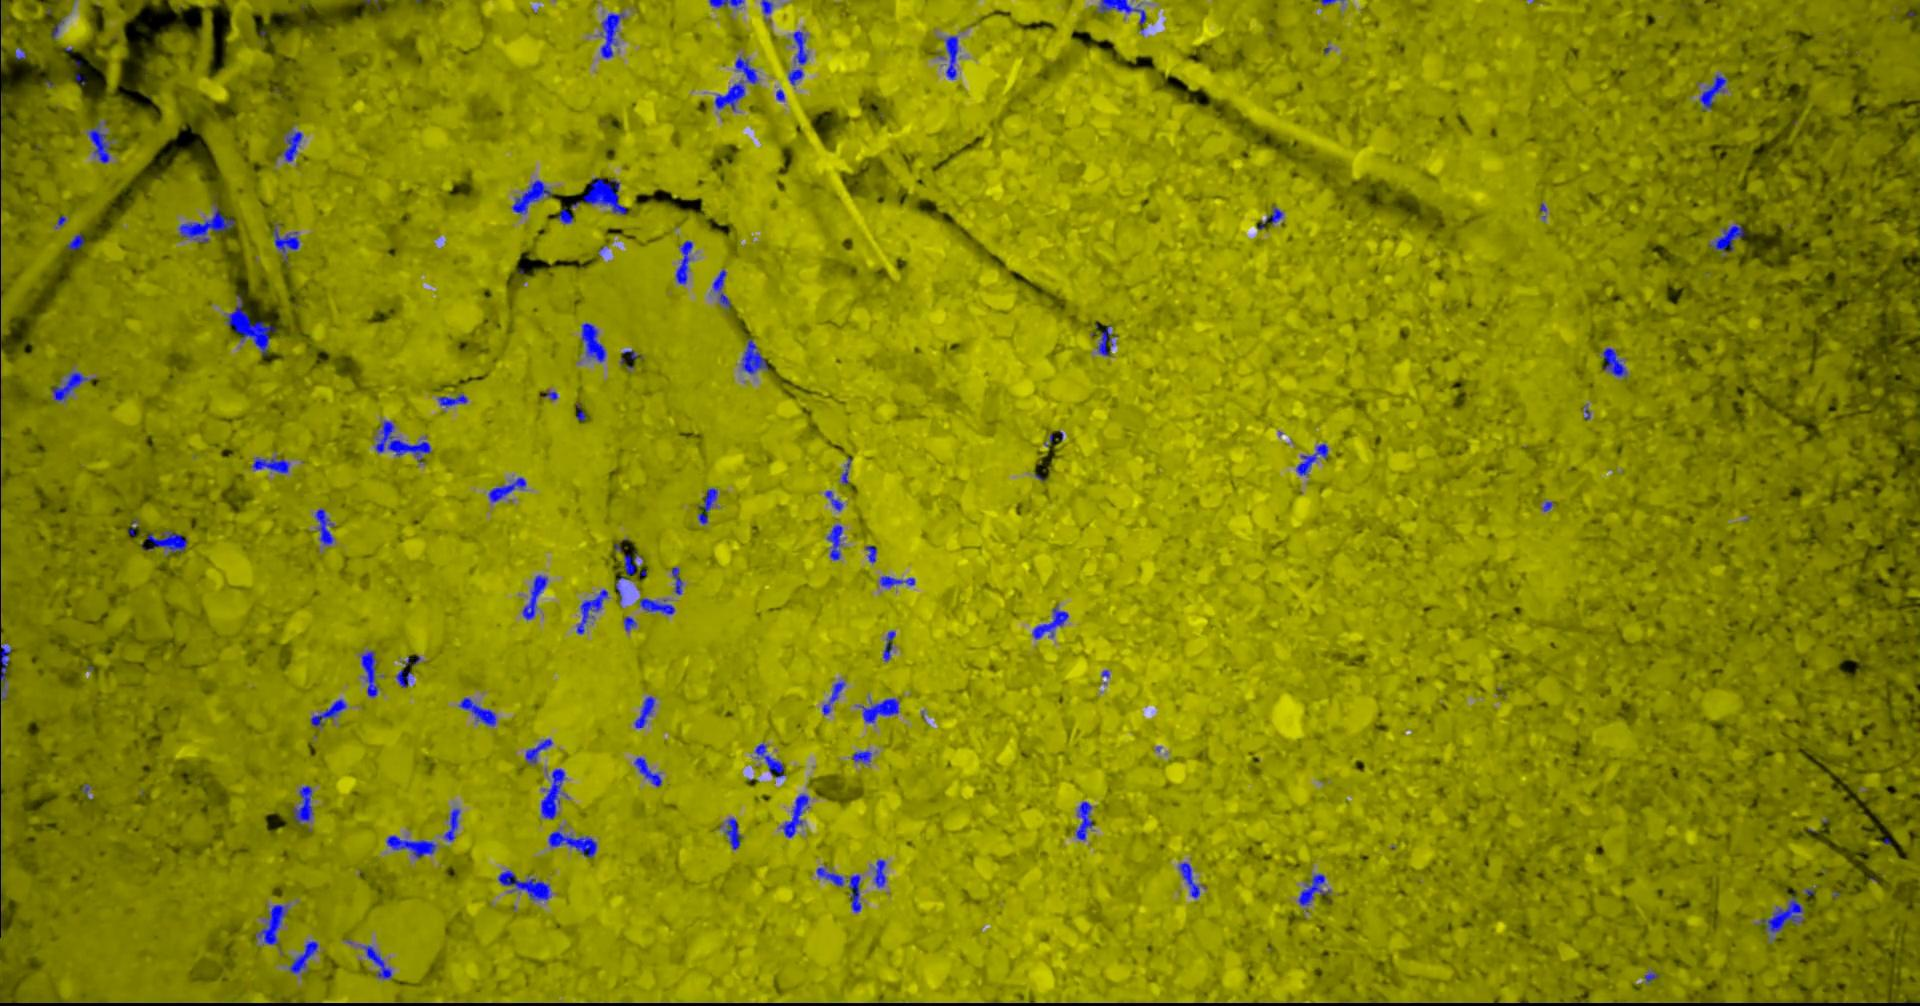ant: (223, 293, 276, 354), (714, 56, 757, 111), (375, 420, 430, 462), (178, 202, 234, 243), (1760, 890, 1803, 932), (582, 177, 626, 213), (497, 870, 550, 901), (1096, 0, 1145, 30), (547, 827, 596, 857), (510, 179, 551, 213), (577, 589, 607, 634), (780, 793, 809, 837), (540, 768, 565, 819), (257, 904, 288, 944), (51, 371, 91, 401), (1707, 222, 1747, 251), (1031, 607, 1068, 639), (385, 835, 436, 857), (599, 11, 623, 58), (615, 553, 637, 602), (522, 574, 547, 619), (787, 30, 808, 84), (458, 697, 495, 727), (361, 650, 383, 697), (1297, 873, 1330, 904), (754, 743, 785, 777), (855, 697, 898, 721), (1699, 74, 1727, 111), (309, 699, 345, 727), (272, 224, 298, 262), (1295, 443, 1327, 475), (361, 945, 391, 978), (288, 940, 317, 973), (88, 121, 110, 163), (143, 530, 185, 553), (580, 323, 604, 362), (740, 338, 767, 373), (1178, 862, 1205, 898), (632, 756, 662, 786), (488, 478, 524, 502), (712, 268, 731, 309), (697, 486, 717, 525), (293, 784, 312, 824), (822, 681, 844, 714), (1601, 347, 1625, 377), (676, 240, 692, 285), (279, 130, 302, 161), (314, 508, 334, 544), (524, 738, 552, 763), (0, 643, 11, 700), (251, 456, 290, 473), (1076, 801, 1092, 840), (634, 696, 654, 727), (637, 597, 674, 614), (723, 817, 742, 848), (943, 36, 957, 79), (1258, 205, 1283, 229), (825, 525, 842, 559), (443, 807, 460, 841), (817, 868, 843, 887), (1097, 325, 1114, 354), (848, 874, 860, 912), (879, 575, 914, 587), (437, 394, 467, 406), (883, 630, 895, 661), (618, 349, 643, 365), (824, 490, 842, 511), (872, 859, 885, 887), (670, 567, 682, 594), (66, 232, 84, 250), (395, 668, 411, 687), (759, 0, 773, 22), (841, 456, 851, 484), (851, 749, 871, 763), (709, 0, 743, 8), (557, 208, 573, 224), (863, 545, 876, 563), (623, 616, 636, 630)
